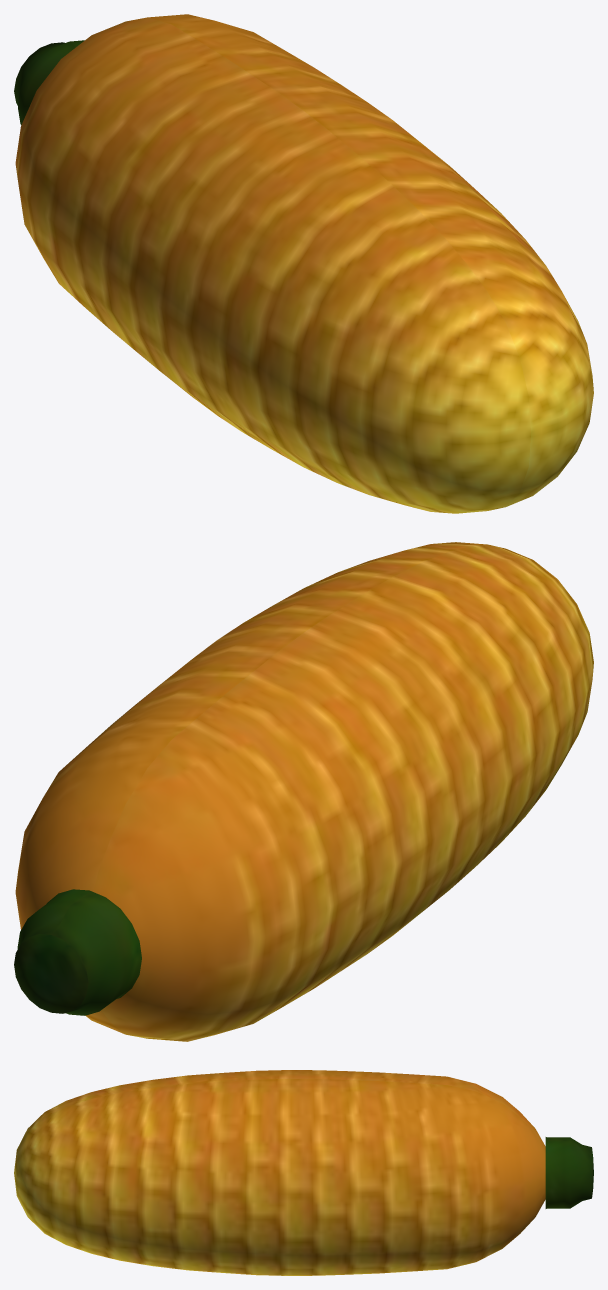
The model's file is yumi.fbx.
3 renders of one model, top to bottom at view 1: azimuth 30°, elevation 25°; view 2: azimuth 150°, elevation 25°; view 3: azimuth 270°, elevation 25°, orthographic. The views are drawn at different scales.
Parts seen in each view (by area): view 1: model_0; view 2: model_0; view 3: model_0.
Part boxes in pixels (x1=…): model_0: x1=14, y1=14, x2=593, y2=513; model_0: x1=14, y1=542, x2=593, y2=1041; model_0: x1=14, y1=1070, x2=593, y2=1275.
Bounding box in the file's own units: 29.88 × 29.89 × 83.5.
1 material, 1 textured.
